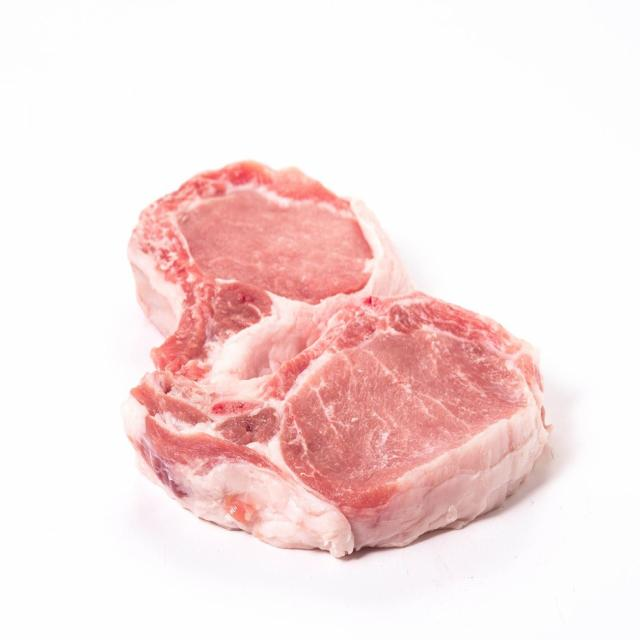Pork: (101, 161, 553, 562)
